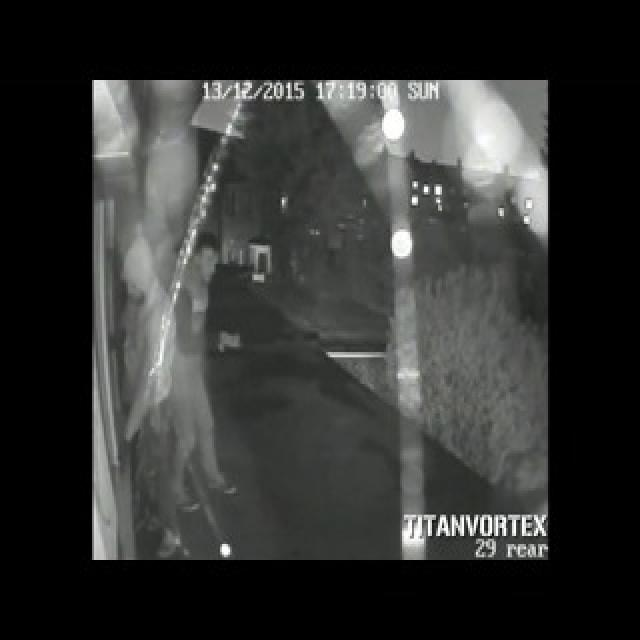thief: (180, 212, 237, 311), (114, 238, 164, 318)
